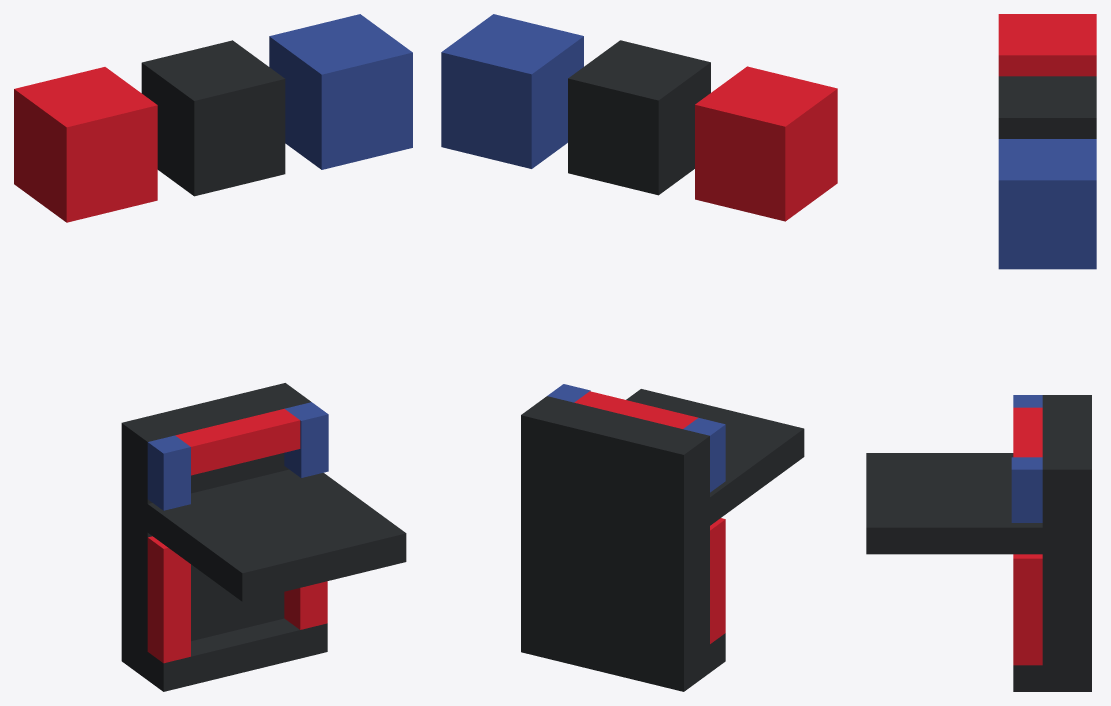
File: tinker.obj
3 renders of one model, left to right at view 1: azimuth 30°, elevation 25°; view 2: azimuth 150°, elevation 25°; view 3: azimuth 270°, elevation 25°, orthographic. The views are drawn at different scales.
Visible parts, largest first — view 1: group_0_2829873, group_0_15277357, group_0_3888547; view 2: group_0_2829873, group_0_15277357, group_0_3888547; view 3: group_0_2829873, group_0_3888547, group_0_15277357.
Part boxes in pixels (bbox=[...]): group_0_2829873: bbox=[121, 40, 406, 691]; group_0_15277357: bbox=[14, 67, 327, 663]; group_0_3888547: bbox=[147, 14, 412, 510]; group_0_2829873: bbox=[521, 40, 804, 691]; group_0_15277357: bbox=[574, 66, 837, 643]; group_0_3888547: bbox=[441, 14, 725, 492]; group_0_2829873: bbox=[866, 76, 1096, 691]; group_0_3888547: bbox=[998, 139, 1096, 522]; group_0_15277357: bbox=[998, 14, 1096, 665].
Bounding box in the file's own units: 76 × 125 × 47.
